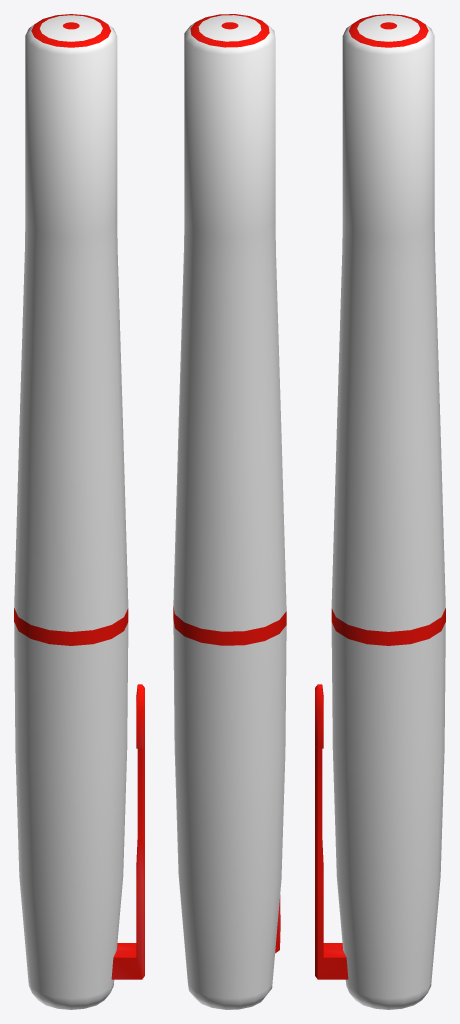
File: Pen.fbx
The picture shows the model from 3 angles, left to right: view 1: azimuth 90°, elevation 25°; view 2: azimuth 150°, elevation 25°; view 3: azimuth 270°, elevation 25°; orthographic projection.
Visible parts, largest first — view 1: Corpse, Cap; view 2: Corpse, Cap; view 3: Corpse, Cap.
Boxes of the visible parts, bbox=[...] form: Corpse: bbox=[14, 14, 128, 645]; Cap: bbox=[14, 622, 144, 1009]; Corpse: bbox=[173, 14, 286, 645]; Cap: bbox=[173, 620, 286, 1009]; Corpse: bbox=[331, 14, 445, 645]; Cap: bbox=[315, 622, 445, 1009].
Size of the model in its own units: 1.5 by 14.18 by 1.72.
